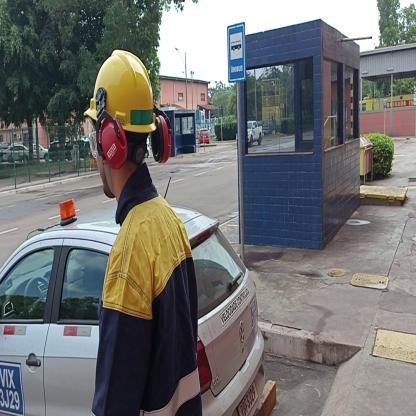C_eletrica: (102, 213, 206, 416)
Capacete: (89, 46, 159, 130)
